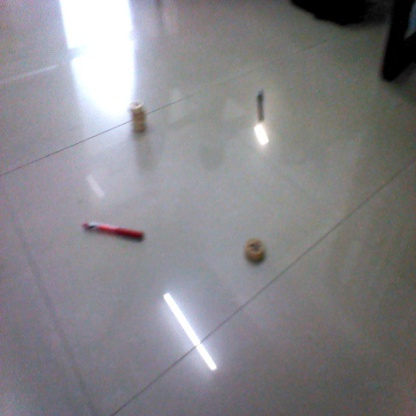chess: (127, 102, 153, 133), (244, 234, 268, 260)
pen: (80, 219, 147, 241), (255, 89, 267, 122)
